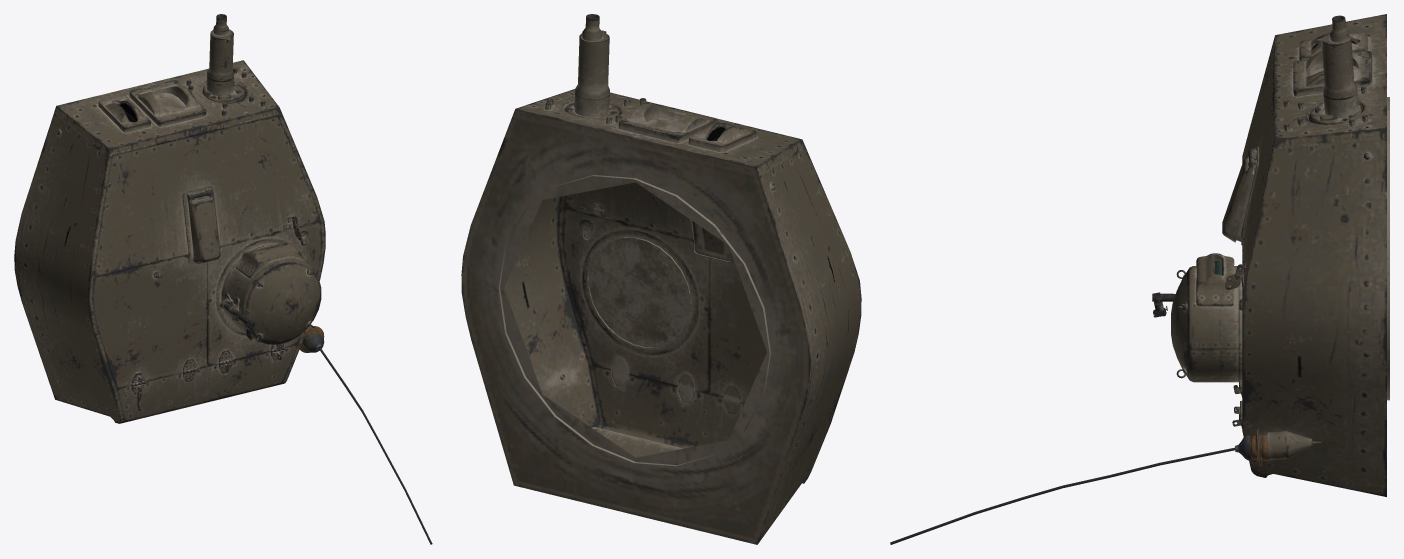
File: Turret_01.glb
The picture shows the model from 3 angles, left to right: view 1: azimuth 30°, elevation 25°; view 2: azimuth 150°, elevation 25°; view 3: azimuth 270°, elevation 25°; orthographic projection. The views are drawn at different scales.
Visible parts, largest first — view 1: set_0_group_0; view 2: set_0_group_0; view 3: set_0_group_0.
Boxes of the visible parts, left/top/right/bottom form: set_0_group_0: left=14, top=14, right=432, bottom=544; set_0_group_0: left=461, top=14, right=861, bottom=544; set_0_group_0: left=890, top=14, right=1389, bottom=544.
Size of the model in its own units: 1.42 by 2.03 by 1.81.
1 material, 1 textured.
